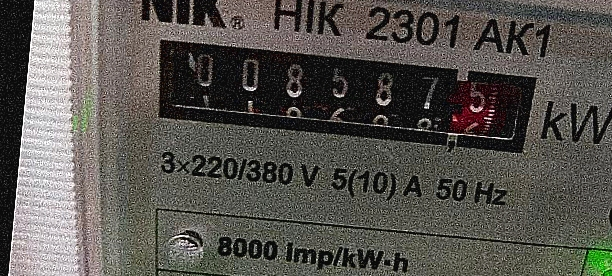0: (236, 51, 264, 93)
1: (190, 47, 218, 90)
5: (464, 74, 491, 116), (327, 61, 353, 101)
7: (415, 70, 442, 113)
8: (279, 57, 308, 101), (371, 66, 396, 109)
screen: (130, 17, 558, 175)
